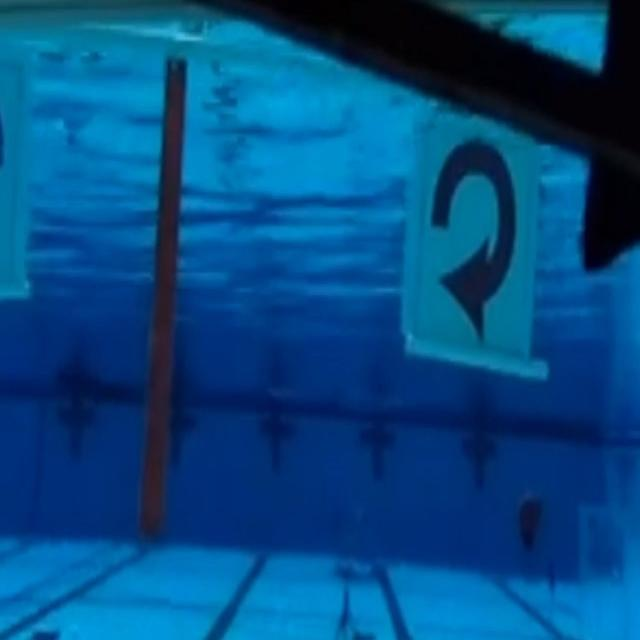Gate: (126, 0, 640, 565)
